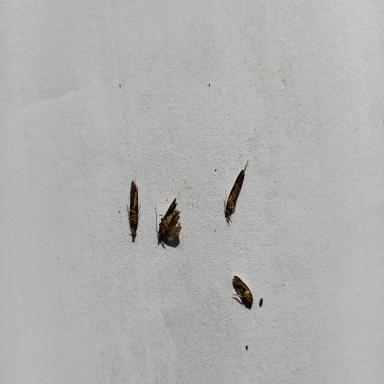pbw: (221, 165, 249, 223), (154, 203, 182, 245), (127, 178, 142, 243), (232, 272, 254, 310)
